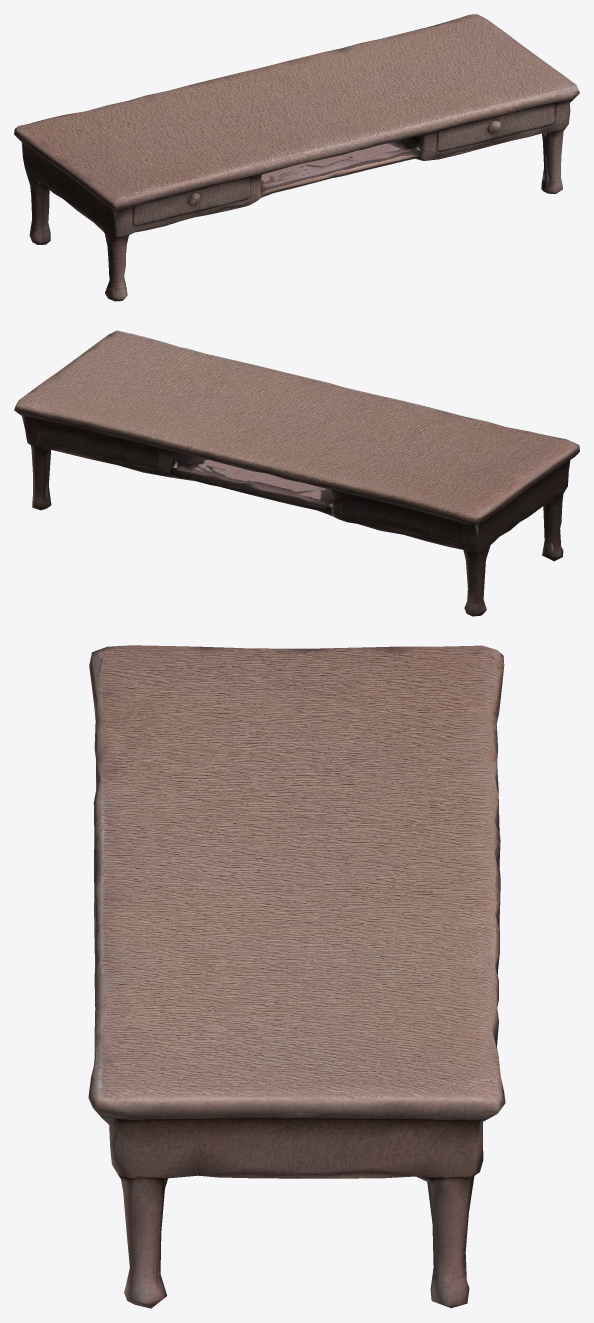
Rendered from proj_nightstand.fbx.
The picture shows the model from 3 angles, top to bottom: view 1: azimuth 30°, elevation 25°; view 2: azimuth 150°, elevation 25°; view 3: azimuth 270°, elevation 25°; orthographic projection. The views are drawn at different scales.
Visible parts, largest first — view 1: input; view 2: input; view 3: input.
Boxes of the visible parts, left/top/right/bottom form: input: left=14, top=14, right=579, bottom=301; input: left=14, top=330, right=579, bottom=616; input: left=88, top=645, right=505, bottom=1308.
Bounding box in the file's own units: 100 × 22.89 × 38.58.
Materials: 1 (1 with a texture image).
